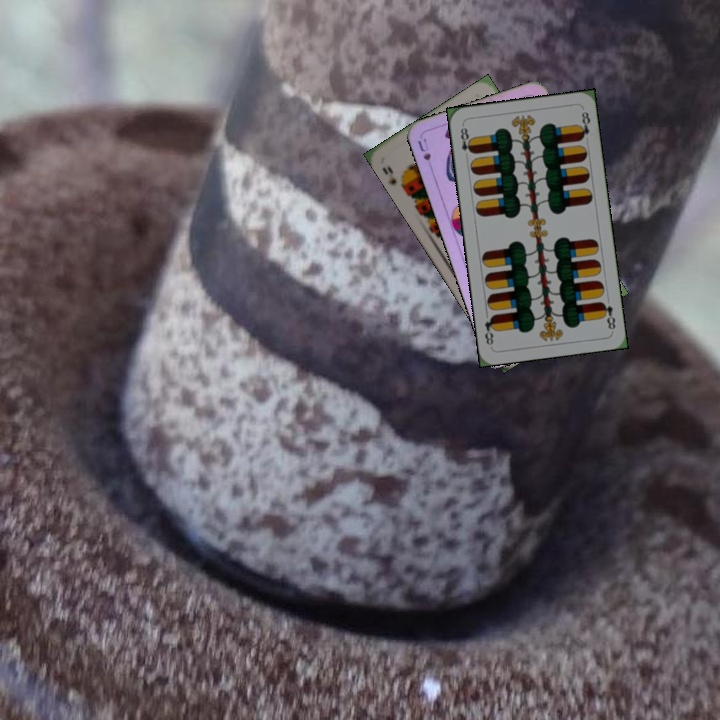E8: (457, 121, 476, 162), (597, 298, 618, 332)
S9: (378, 162, 407, 193)
SU: (413, 134, 436, 174)
